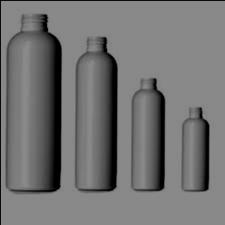Plastic: (6, 8, 62, 195)
